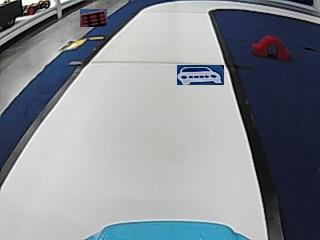bridge: (251, 33, 290, 60)
